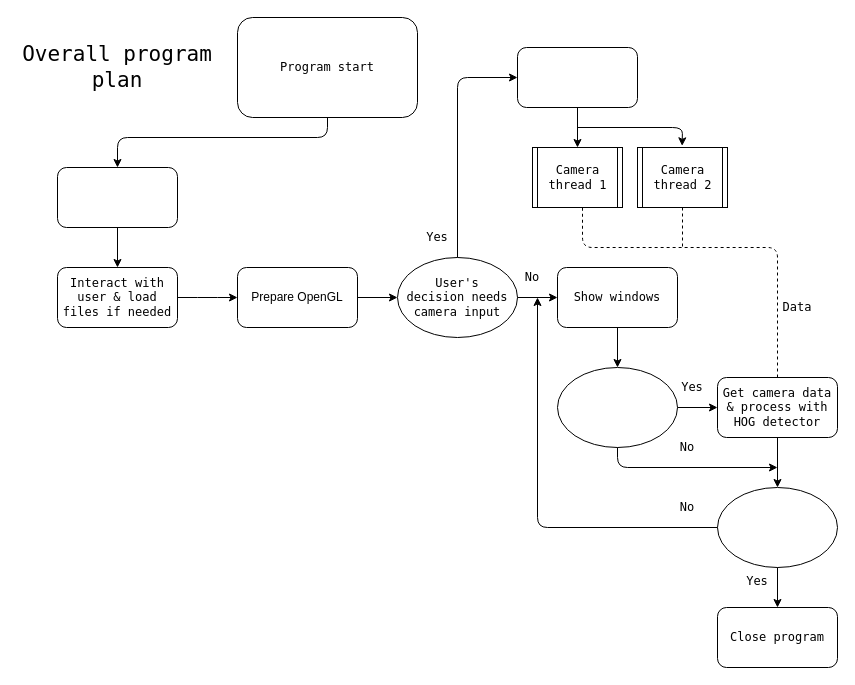
This 855x685 diagram has some shape labels left out. Here are the shapes that lost their labels. From the top down, the centre of each, then its label:
the point at 577,77: Launch camera threads
the point at 117,197: Init variables
the point at 617,407: Cameras active
the point at 777,527: User decided to end application work
